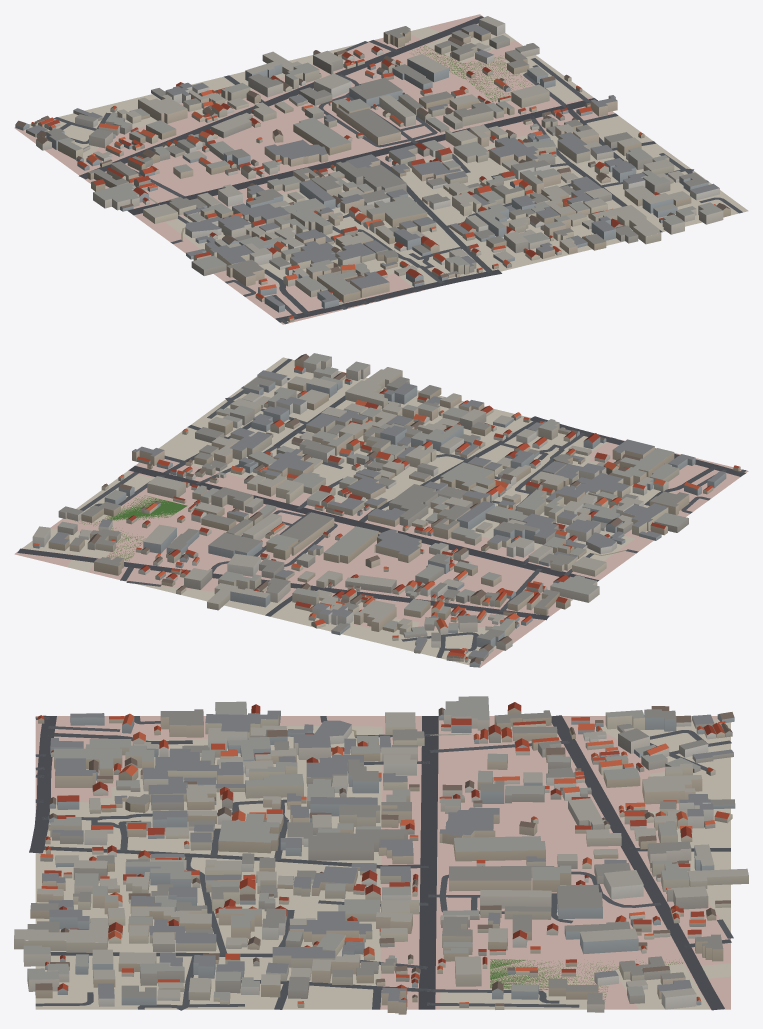
The picture shows the model from 3 angles, top to bottom: view 1: azimuth 30°, elevation 25°; view 2: azimuth 150°, elevation 25°; view 3: azimuth 270°, elevation 25°; orthographic projection. The views are drawn at different scales.
Visible parts, largest first — view 1: buildings_roofs, buildings_walls, landuse, roads; view 2: buildings_roofs, buildings_walls, landuse, roads; view 3: buildings_roofs, buildings_walls, landuse, roads.
Part boxes in pixels (<box>): buildings_roofs: <box>15,16,729,318</box>; buildings_walls: <box>15,19,730,322</box>; landuse: <box>14,14,748,324</box>; roads: <box>54,16,742,324</box>; buildings_roofs: <box>33,353,739,663</box>; buildings_walls: <box>32,357,740,667</box>; landuse: <box>14,357,748,667</box>; roads: <box>17,358,746,657</box>; buildings_roofs: <box>14,696,748,1006</box>; buildings_walls: <box>14,699,748,1014</box>; landuse: <box>35,716,730,1009</box>; roads: <box>29,715,733,1010</box>.
Bounding box in the file's own units: 524 × 9.68 × 529.
